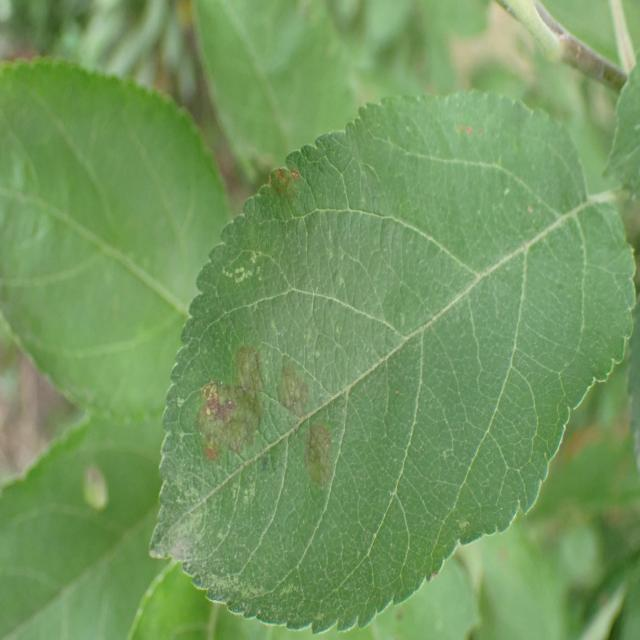scab: (175, 335, 354, 515), (248, 150, 329, 235)
